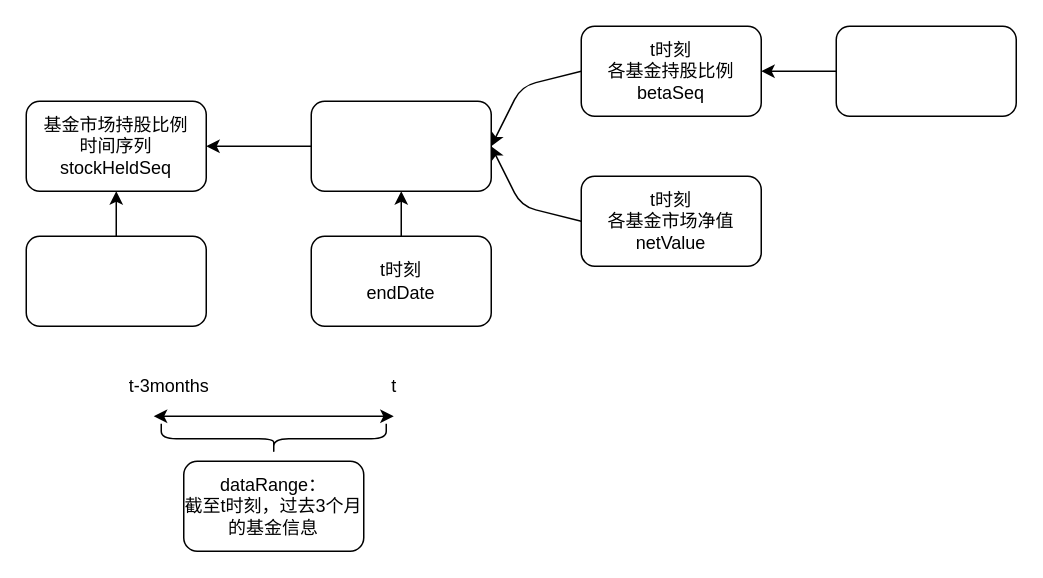
Some shapes in this 1043 by 578 pixel diagram are drawn without their labels. Here are the shapes that lost their labels. From the top down, the centre of each, then its label:
At (925,70): "t时刻 某基金持股比例 betaOptim".
At (400,145): "t时刻 基金市场持股比例 stockHeld".
At (115,280): "时刻序列 endDateSeq".
